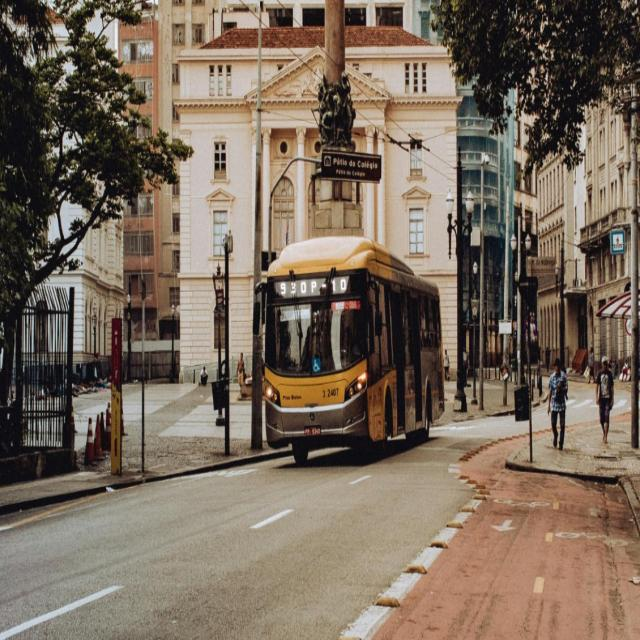bus: (252, 236, 445, 462)
